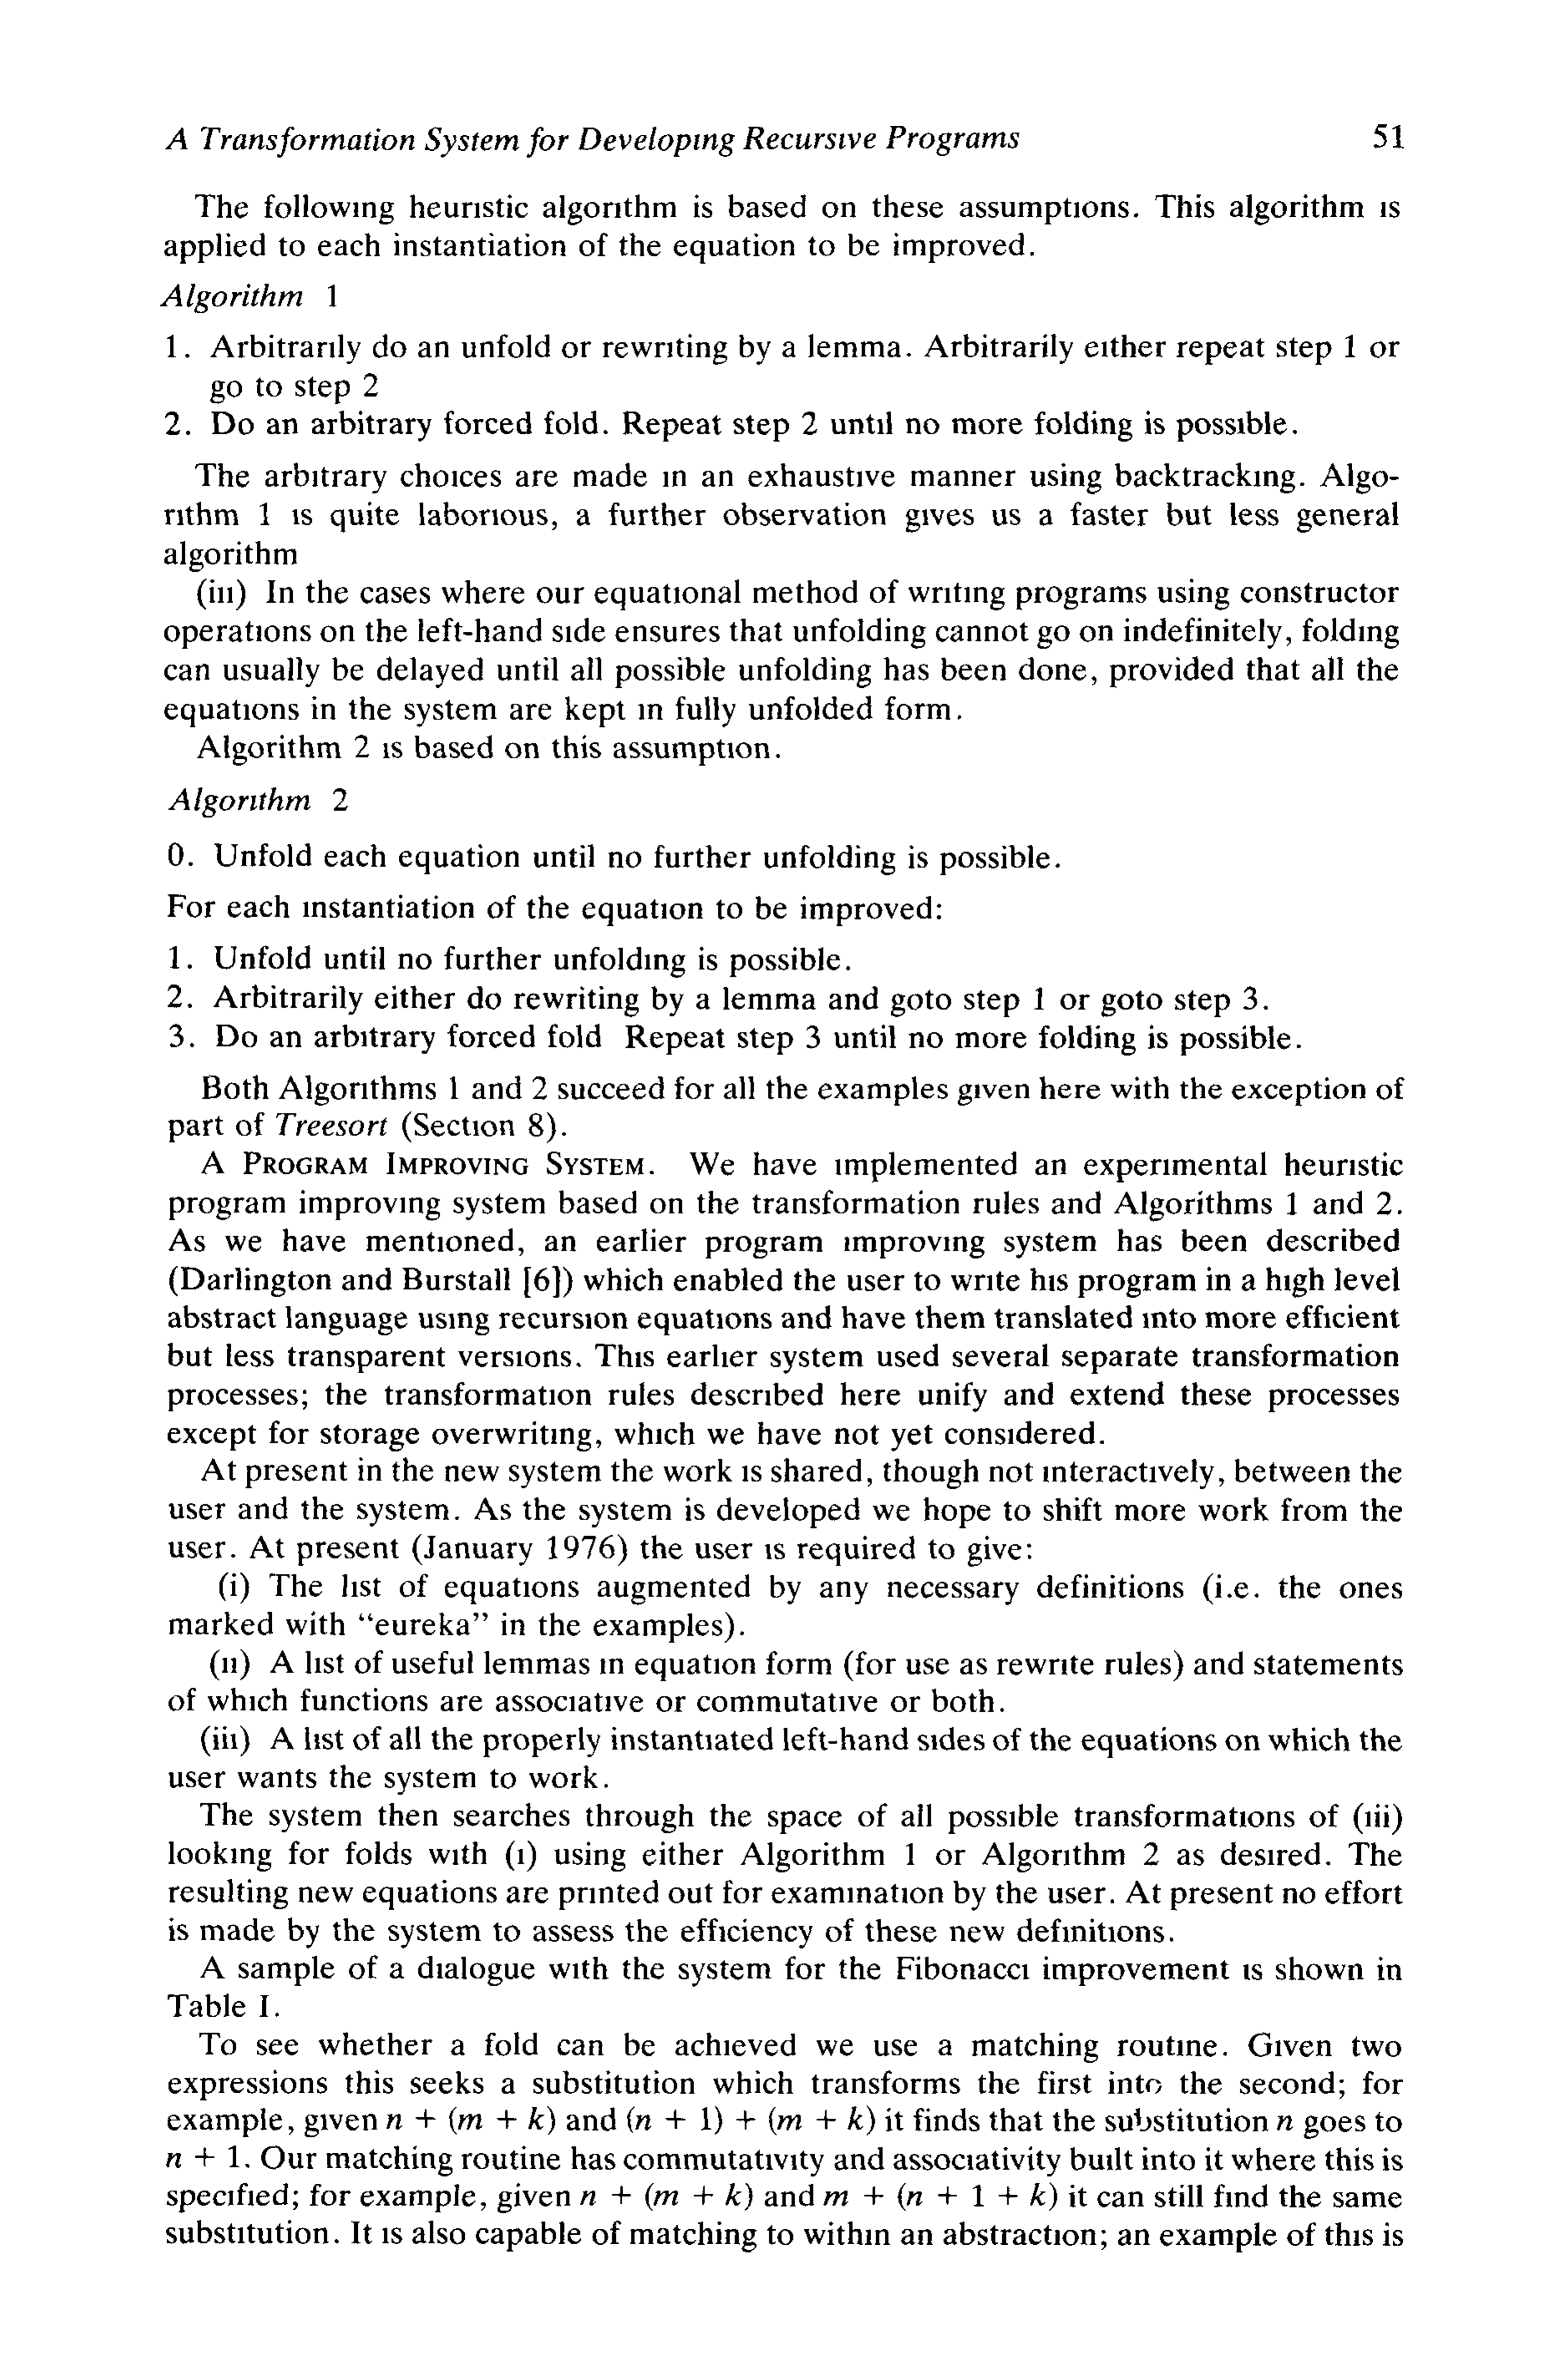maths: (627, 2106, 876, 2135), (823, 2183, 1057, 2210), (580, 2183, 753, 2210), (386, 2106, 556, 2134), (166, 2146, 239, 2169), (1276, 2116, 1293, 2130)
